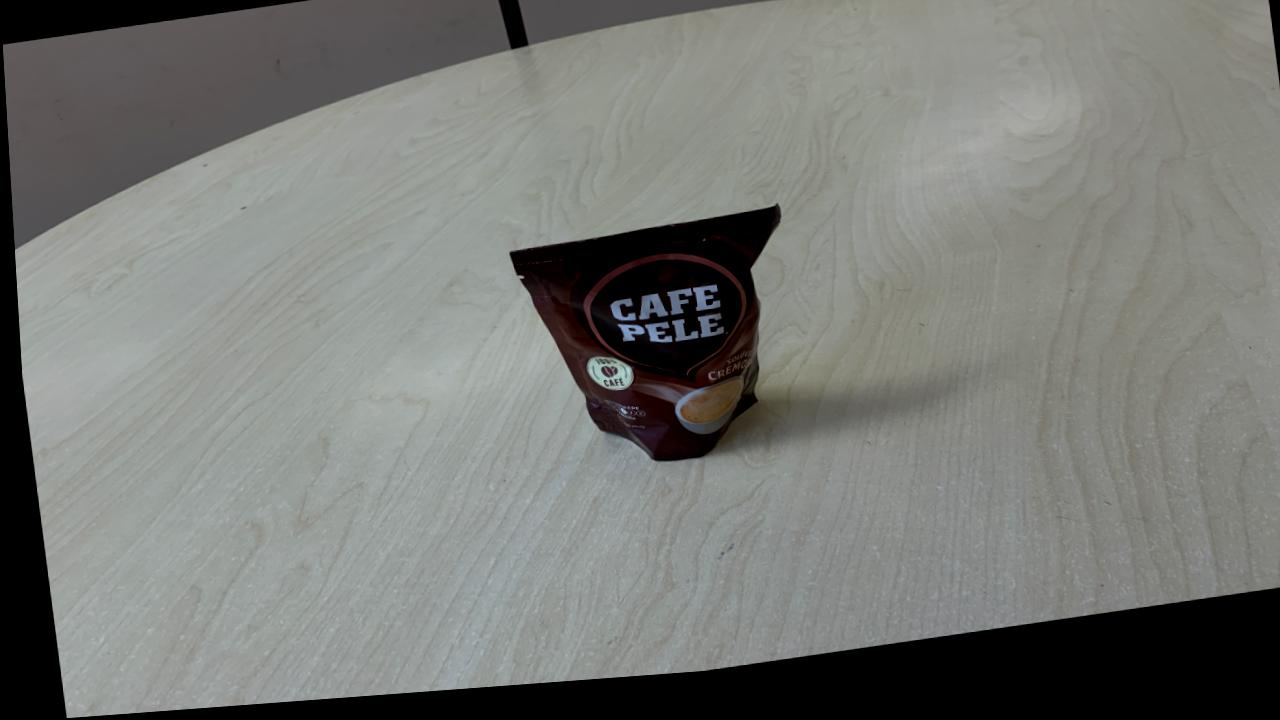Coffee-Pantry_Items: (505, 217, 781, 475)
